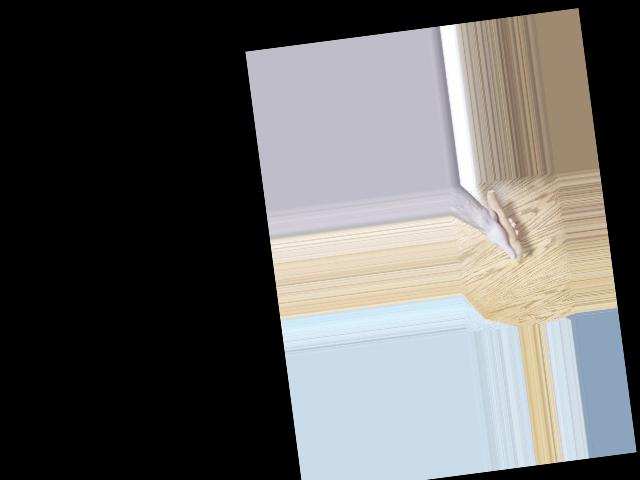sweet_potato: (483, 185, 526, 264)
